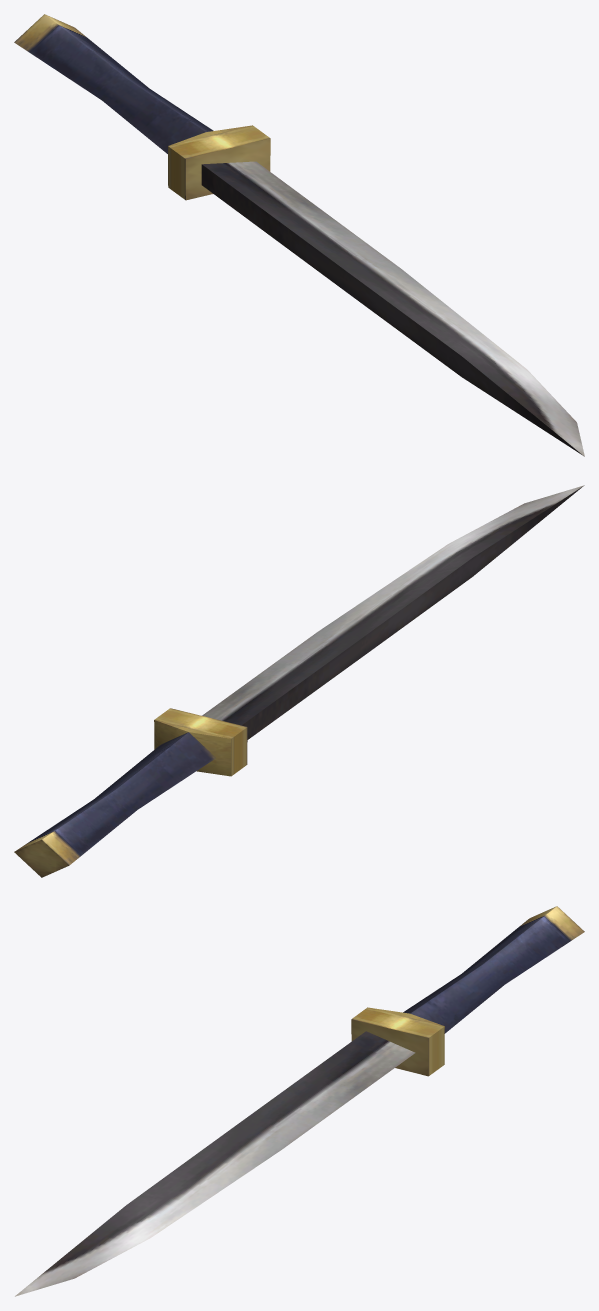
3 views of the same model, one above another, from view 1: azimuth 30°, elevation 25°; view 2: azimuth 150°, elevation 25°; view 3: azimuth 330°, elevation 25° (orthographic). The views are drawn at different scales.
Visible parts, largest first — view 1: i2016; view 2: i2016; view 3: i2016.
Part boxes in pixels (x1,y1,x2,y2): i2016: [14, 14, 584, 456]; i2016: [14, 485, 584, 877]; i2016: [15, 906, 584, 1296].
Bounding box in the file's own units: 7.74 × 3.7 × 89.82.
1 material, 1 textured.
